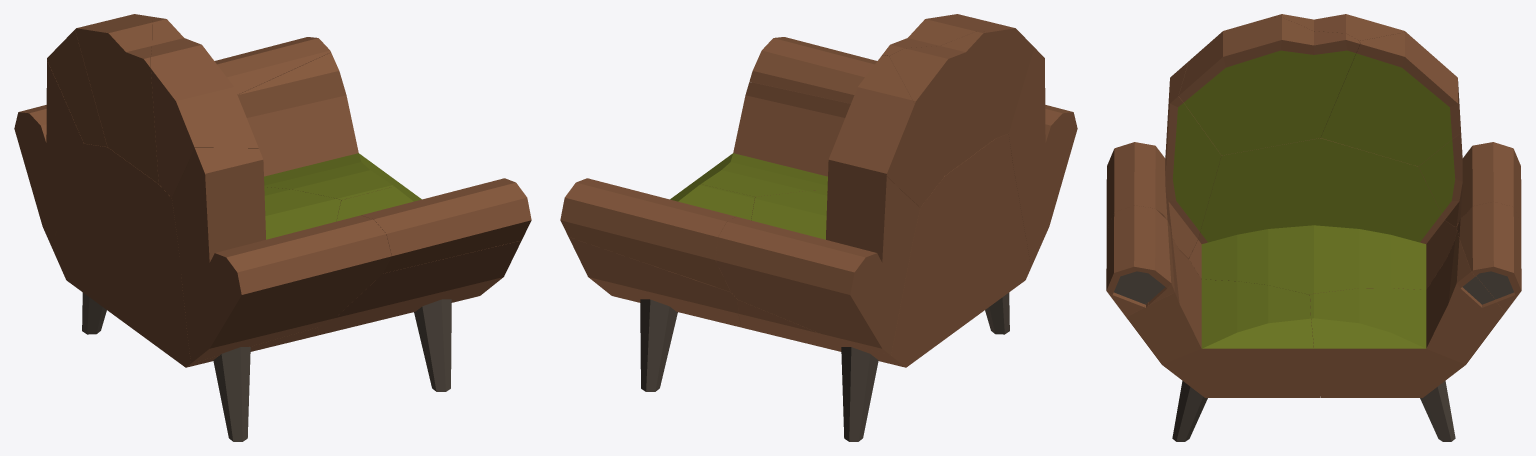
File: armchair-parts.fbx
3 renders of one model, left to right at view 1: azimuth 30°, elevation 25°; view 2: azimuth 150°, elevation 25°; view 3: azimuth 270°, elevation 25°, orthographic. The views are drawn at different scales.
Parts seen in each view (by area): view 1: armchair_cell.008, armchair_cell.007, armchair_cell.009, armchair_cell.004, armchair_cell.006, armchair_cell.001, armchair_cell.002, armchair_cell.005, armchair_cell.003, armchair_cell, armchair-leg2, armchair-leg1 (+1 smaller); view 2: armchair_cell.007, armchair_cell.005, armchair_cell.002, armchair_cell, armchair_cell.003, armchair_cell.001, armchair_cell.008, armchair_cell.009, armchair_cell.006, armchair_cell.004, armchair-leg4, armchair-leg3 (+1 smaller); view 3: armchair_cell.007, armchair_cell.009, armchair_cell.002, armchair_cell.004, armchair_cell.003, armchair_cell.008, armchair_cell.006, armchair_cell.005, armchair_cell, armchair_cell.001, armchair-leg1, armchair-leg3.
Boxes of the visible parts, box(x1,y1,x2,y2) form: armchair_cell.008: box(172, 148, 391, 363); armchair_cell.007: box(51, 143, 340, 367); armchair_cell.009: box(237, 52, 419, 200); armchair_cell.004: box(151, 18, 258, 197); armchair_cell.006: box(361, 178, 531, 273); armchair_cell.001: box(75, 19, 158, 183); armchair_cell.002: box(318, 186, 521, 334); armchair_cell.005: box(14, 60, 83, 246); armchair_cell.003: box(47, 14, 158, 146); armchair_cell: box(214, 37, 330, 94); armchair-leg2: box(213, 347, 250, 441); armchair-leg1: box(414, 299, 451, 391); armchair_cell.007: box(737, 133, 1030, 367); armchair_cell.005: box(715, 176, 920, 355); armchair_cell.002: box(672, 82, 850, 197); armchair_cell: box(560, 178, 735, 291); armchair_cell.003: box(827, 55, 944, 207); armchair_cell.001: box(889, 31, 995, 175); armchair_cell.008: box(1008, 47, 1077, 267); armchair_cell.009: box(568, 184, 754, 327); armchair_cell.006: box(749, 37, 877, 103); armchair_cell.004: box(882, 14, 1034, 137); armchair-leg4: box(841, 347, 878, 441); armchair-leg3: box(640, 299, 677, 391); armchair_cell.007: box(1189, 138, 1458, 294); armchair_cell.009: box(1310, 229, 1504, 397); armchair_cell.002: box(1126, 227, 1320, 397); armchair_cell.004: box(1178, 17, 1359, 155); armchair_cell.003: box(1320, 32, 1459, 166); armchair_cell.008: box(1106, 61, 1221, 258); armchair_cell.006: box(1106, 205, 1174, 317); armchair_cell.005: box(1418, 81, 1521, 226); armchair_cell: box(1457, 201, 1521, 312); armchair_cell.001: box(1270, 14, 1406, 40); armchair-leg1: box(1172, 381, 1207, 441); armchair-leg3: box(1420, 381, 1455, 441).
Bounding box in the file's own units: 3.57 × 4.03 × 4.78.
